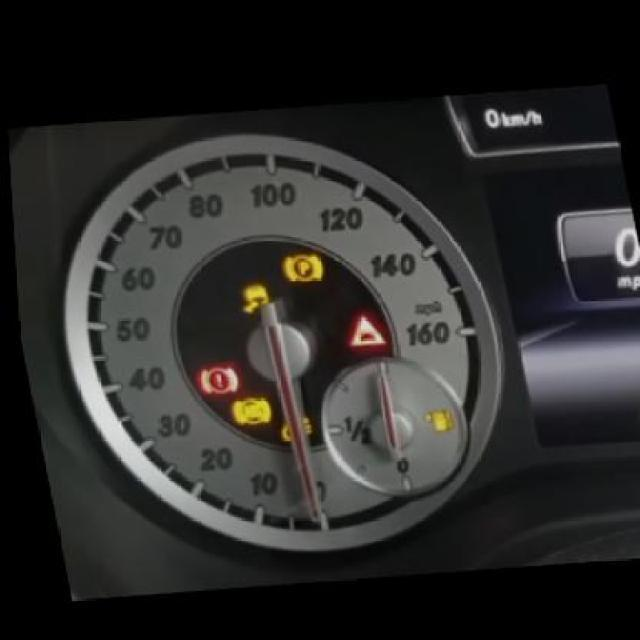Low fuel level: (426, 400, 448, 428)
